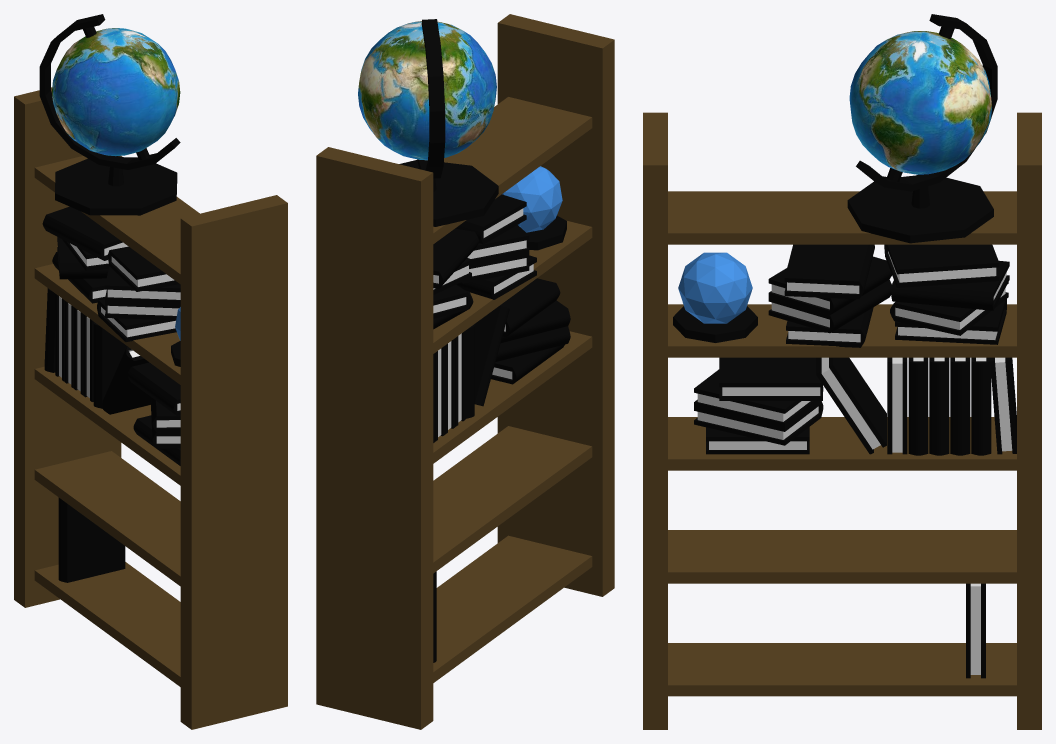
File: BookShelf.fbx
3 views of the same model, side by side, from view 1: azimuth 30°, elevation 25°; view 2: azimuth 150°, elevation 25°; view 3: azimuth 270°, elevation 25° (orthographic). The views are drawn at different scales.
Parts seen in each view (by area): view 1: Cube.024, EarthSphere, Book.004, Book.020, Book.013, Book.006, Book.007, Book.005, Book.015, Book.014, Book.016, Book.017 (+10 smaller); view 2: Cube.024, EarthSphere, SnowGlobe, Book.006, Book.005, Book.013, Book.020, Book.015, Book.001, Book.014, Book.003, Book.002 (+6 smaller); view 3: Cube.024, EarthSphere, SnowGlobe, Book.020, Book.013, Book.005, Book.006, Book.018, Book.002, Book.001, Book.016, Book.017 (+11 smaller).
Boxes of the visible parts, <box> form: Cube.024: <box>14,87,287,729</box>; EarthSphere: <box>39,14,180,215</box>; Book.004: <box>58,497,125,582</box>; Book.020: <box>42,206,128,260</box>; Book.013: <box>108,246,179,291</box>; Book.006: <box>102,347,151,414</box>; Book.007: <box>93,322,127,408</box>; Book.005: <box>127,362,180,415</box>; Book.015: <box>105,266,180,304</box>; Book.014: <box>97,299,176,341</box>; Book.016: <box>105,301,180,320</box>; Book.017: <box>57,237,108,279</box>; Cube.024: <box>316,14,614,729</box>; EarthSphere: <box>358,19,498,226</box>; SnowGlobe: <box>502,166,566,250</box>; Book.006: <box>474,306,509,406</box>; Book.005: <box>500,278,560,337</box>; Book.013: <box>455,194,526,244</box>; Book.020: <box>433,228,478,288</box>; Book.015: <box>467,225,529,264</box>; Book.001: <box>495,326,570,361</box>; Book.014: <box>456,255,536,299</box>; Book.003: <box>491,344,564,384</box>; Book.002: <box>500,300,570,342</box>; Cube.024: <box>643,112,1041,729</box>; EarthSphere: <box>847,14,997,243</box>; SnowGlobe: <box>673,252,757,342</box>; Book.020: <box>884,244,999,287</box>; Book.013: <box>784,244,874,299</box>; Book.005: <box>719,357,822,400</box>; Book.006: <box>816,357,886,454</box>; Book.018: <box>891,260,1009,310</box>; Book.002: <box>694,369,823,427</box>; Book.001: <box>694,401,823,445</box>; Book.016: <box>768,279,891,333</box>; Book.017: <box>890,282,1008,335</box>.
Bounding box in the file's own units: 117 × 604 × 320.
